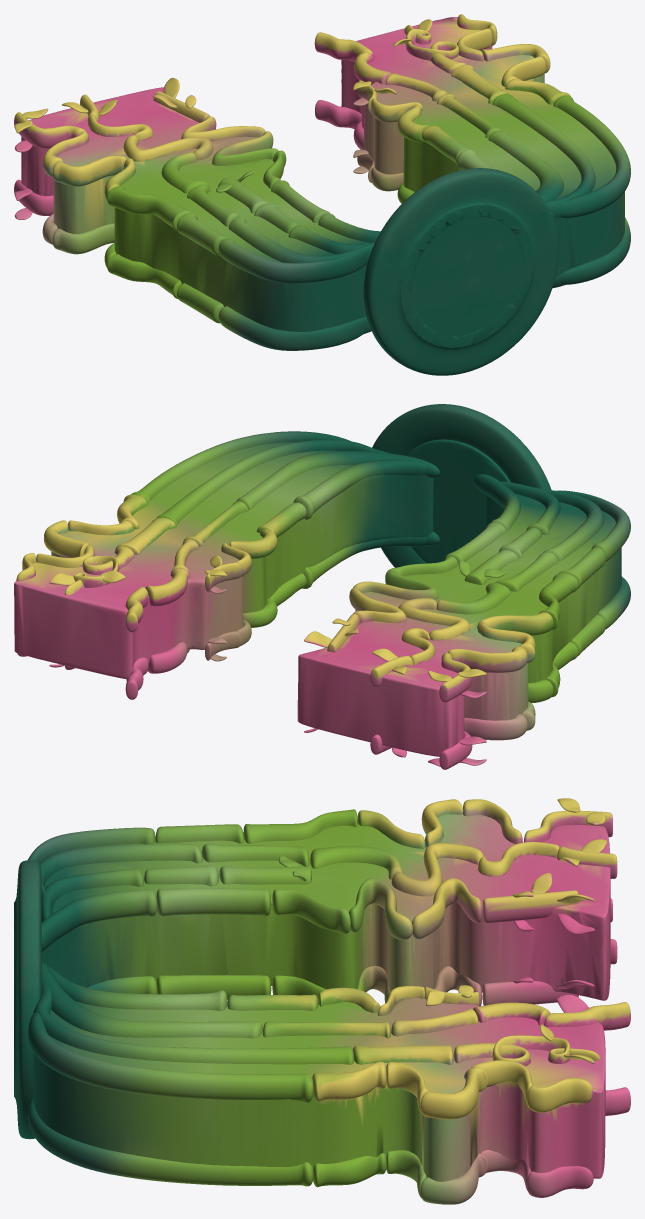
3 renders of one model, top to bottom at view 1: azimuth 30°, elevation 25°; view 2: azimuth 150°, elevation 25°; view 3: azimuth 270°, elevation 25°, orthographic. The views are drawn at different scales.
Parts seen in each view (by area): view 1: LOD 3_11715679123741618527_7772d8143698c4b469892684d4d44774; view 2: LOD 3_11715679123741618527_7772d8143698c4b469892684d4d44774; view 3: LOD 3_11715679123741618527_7772d8143698c4b469892684d4d44774.
Part boxes in pixels (x1=…): LOD 3_11715679123741618527_7772d8143698c4b469892684d4d44774: x1=14, y1=14, x2=630, y2=375; LOD 3_11715679123741618527_7772d8143698c4b469892684d4d44774: x1=14, y1=404, x2=630, y2=769; LOD 3_11715679123741618527_7772d8143698c4b469892684d4d44774: x1=14, y1=798, x2=630, y2=1204.
Bounding box in the file's own units: 14.65 × 5.71 × 12.63.
